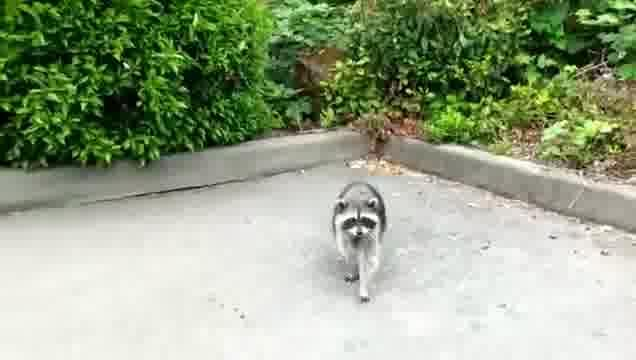raccoon: (331, 179, 387, 303)
